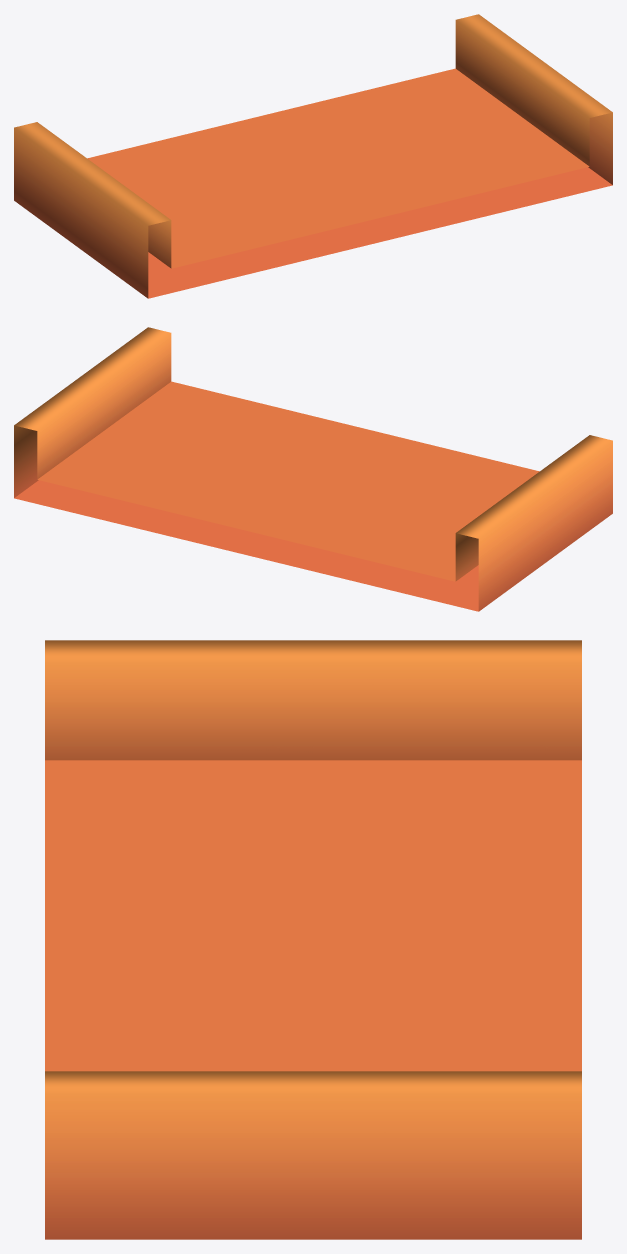
File: track-wide.glb
The picture shows the model from 3 angles, top to bottom: view 1: azimuth 30°, elevation 25°; view 2: azimuth 150°, elevation 25°; view 3: azimuth 270°, elevation 25°; orthographic projection. The views are drawn at different scales.
Visible parts, largest first — view 1: track-wide; view 2: track-wide; view 3: track-wide.
Boxes of the visible parts, bbox=[...] form: track-wide: bbox=[14, 14, 612, 298]; track-wide: bbox=[14, 327, 612, 611]; track-wide: bbox=[45, 640, 581, 1239].
Size of the model in its own units: 2 by 0.3001 by 1.
Materials: 1 (1 with a texture image).
